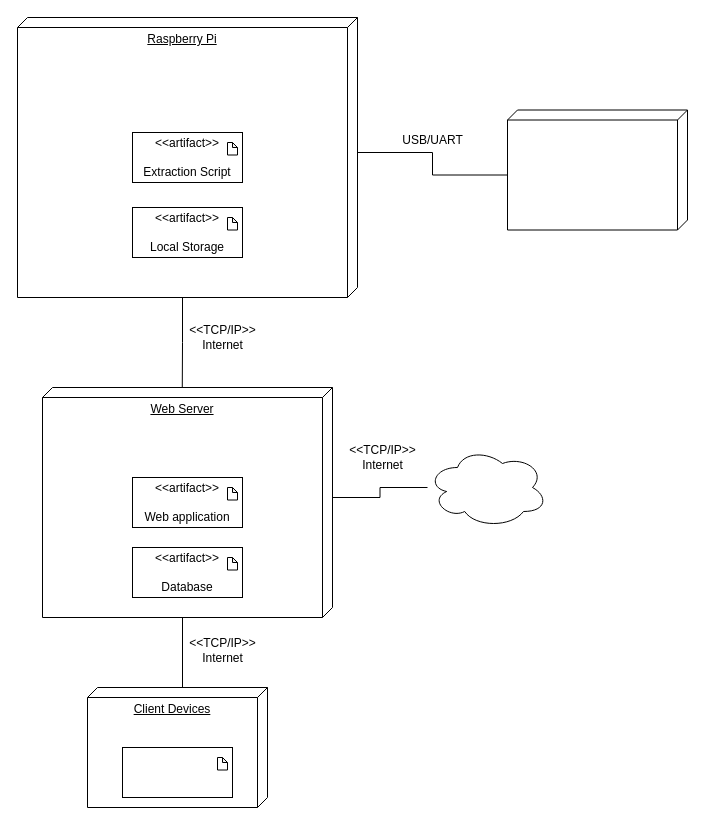
The diagram is 705 pixels wide and 825 high, and some of its shapes have lost their labels. The centre of each missing label's shape, as x and y in pixels:
<<artifact>> Web Browsers: the point at 177,772
Internet: the point at 487,487
IOT Device: the point at 597,169
